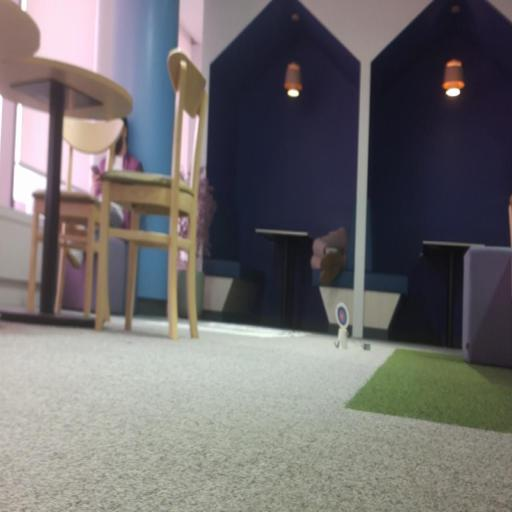target: (336, 302, 349, 329)
